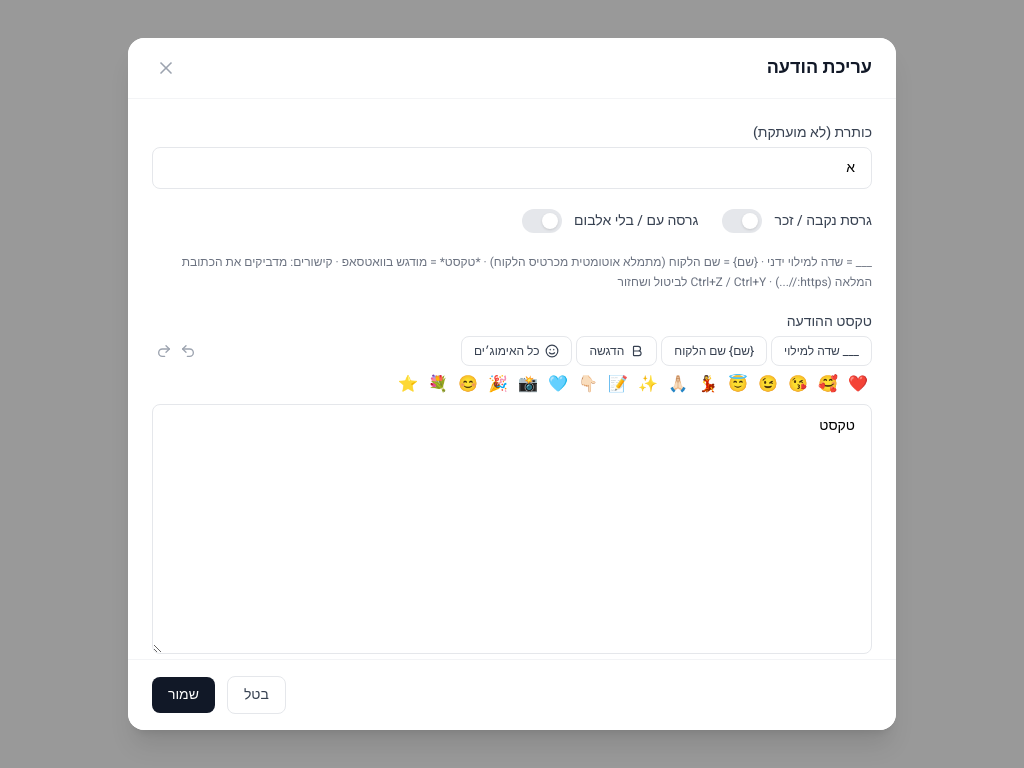
Scenario: MessageEditor › turning on gender + album versions shows 4 text boxes, prefilled from the existing text
Click the switch named "גרסת נקבה / זכר": coordinates (742, 221) [722,209,762,233]
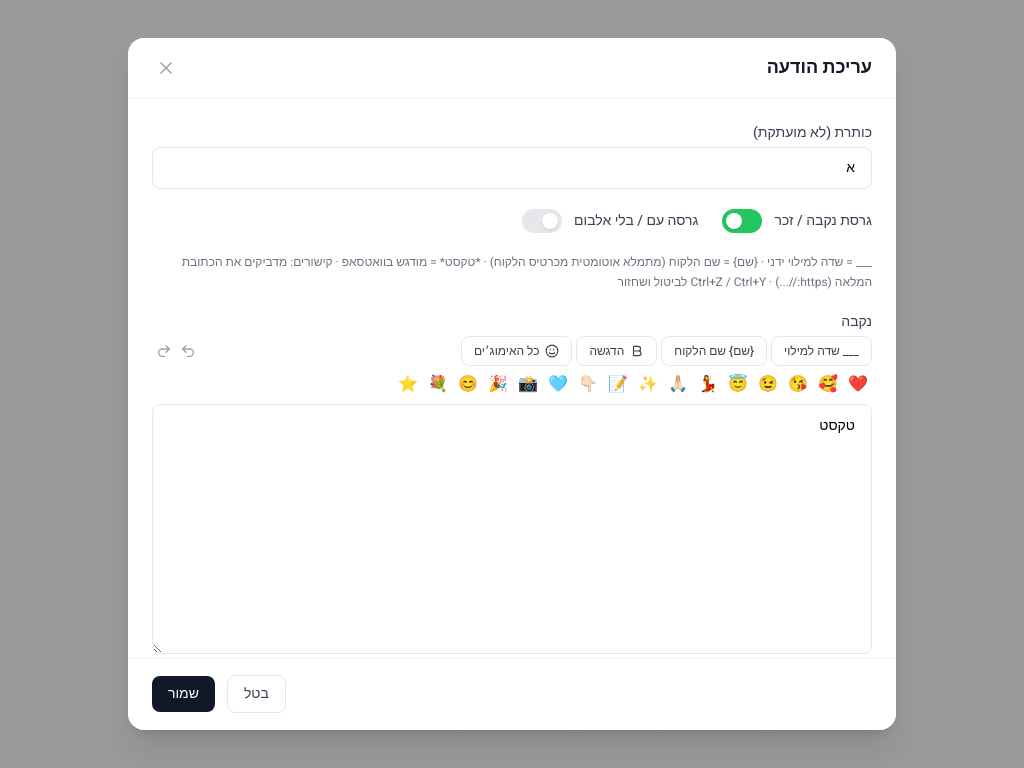
Click the switch named "גרסה עם / בלי אלבום": coordinates (542, 221) [522,209,562,233]
(page scrolled)
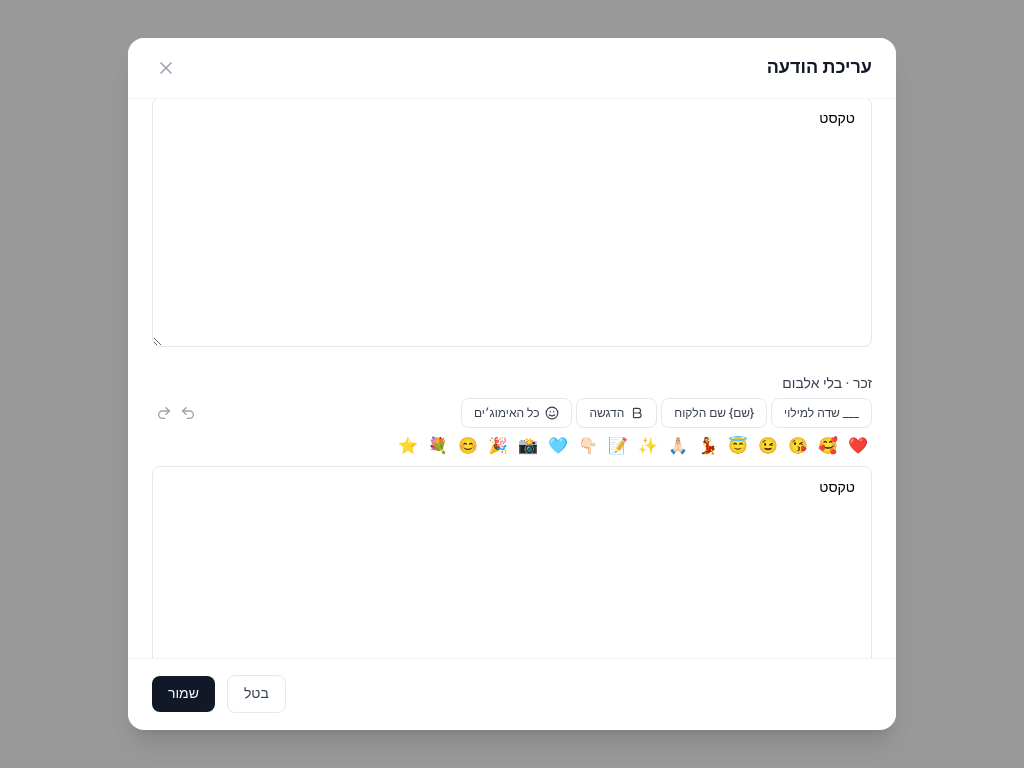
Now the text "זכר · בלי אלבום" is shown, box [782,373,872,394]
Now the number of fields showing "טקסט" is 4
